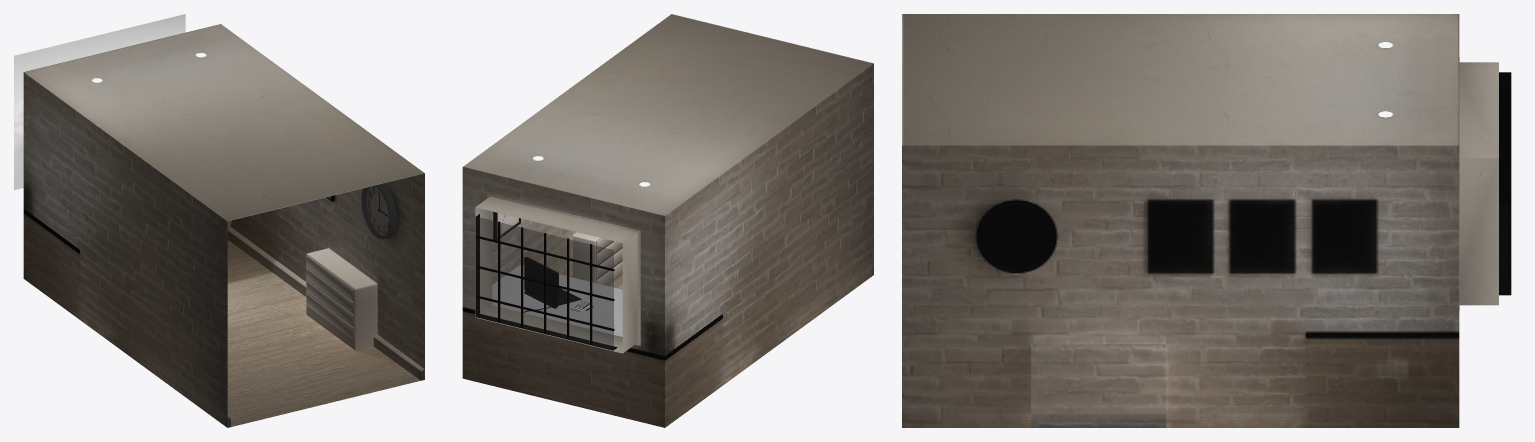
The model's file is chair-within-room-scene.glb.
The picture shows the model from 3 angles, left to right: view 1: azimuth 30°, elevation 25°; view 2: azimuth 150°, elevation 25°; view 3: azimuth 270°, elevation 25°; orthographic projection. The views are drawn at different scales.
Parts seen in each view (by area): view 1: Small Office, Backdrop; view 2: Small Office; view 3: Small Office.
Boxes of the visible parts, x1,y1,x2,y2 form: Small Office: [23, 24, 424, 427]; Backdrop: [14, 14, 185, 190]; Small Office: [462, 14, 873, 427]; Small Office: [902, 14, 1511, 427].
Bounding box in the file's own units: 2.51 × 2.5 × 4.97.
Materials: 32 (20 with a texture image).
